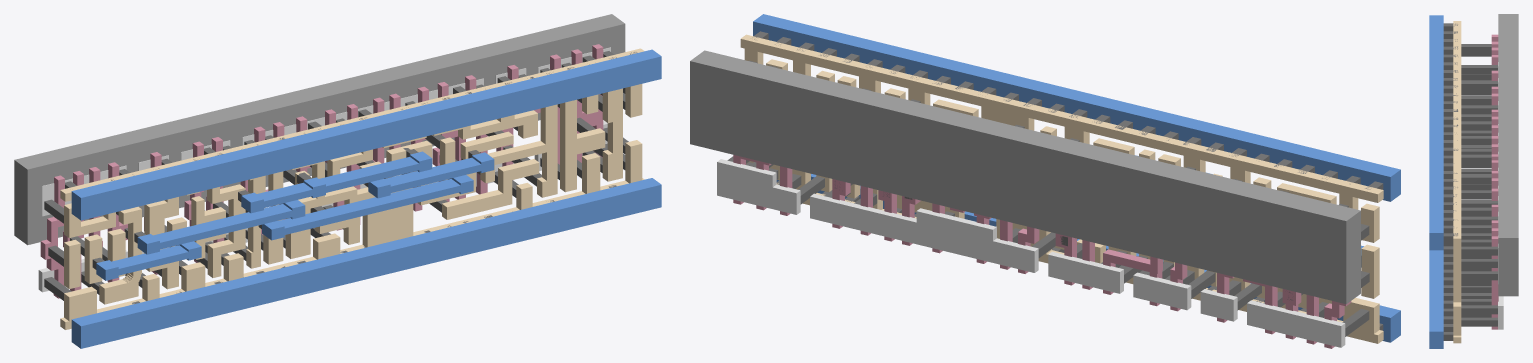
File: sky130_fd_sc_hd__sdfstp_2.gds.gltf
3 views of the same model, side by side, from view 1: azimuth 30°, elevation 25°; view 2: azimuth 150°, elevation 25°; view 3: azimuth 270°, elevation 25° (orthographic). The views are drawn at different scales.
Parts seen in each view (by area): view 1: sky130_fd_sc_hd__sdfstp_2_met1, sky130_fd_sc_hd__sdfstp_2_li1, sky130_fd_sc_hd__sdfstp_2_nwell, sky130_fd_sc_hd__sdfstp_2_poly, sky130_fd_sc_hd__sdfstp_2_licon, sky130_fd_sc_hd__sdfstp_2_diff, sky130_fd_sc_hd__sdfstp_2_mcon; view 2: sky130_fd_sc_hd__sdfstp_2_nwell, sky130_fd_sc_hd__sdfstp_2_li1, sky130_fd_sc_hd__sdfstp_2_diff, sky130_fd_sc_hd__sdfstp_2_met1, sky130_fd_sc_hd__sdfstp_2_poly, sky130_fd_sc_hd__sdfstp_2_licon, sky130_fd_sc_hd__sdfstp_2_mcon; view 3: sky130_fd_sc_hd__sdfstp_2_licon, sky130_fd_sc_hd__sdfstp_2_nwell, sky130_fd_sc_hd__sdfstp_2_met1, sky130_fd_sc_hd__sdfstp_2_mcon, sky130_fd_sc_hd__sdfstp_2_li1, sky130_fd_sc_hd__sdfstp_2_poly, sky130_fd_sc_hd__sdfstp_2_diff.
Part boxes in pixels (<box>): sky130_fd_sc_hd__sdfstp_2_met1: <box>71,49,661,348</box>; sky130_fd_sc_hd__sdfstp_2_li1: <box>60,48,644,329</box>; sky130_fd_sc_hd__sdfstp_2_nwell: <box>14,14,625,245</box>; sky130_fd_sc_hd__sdfstp_2_poly: <box>40,44,603,298</box>; sky130_fd_sc_hd__sdfstp_2_licon: <box>44,51,628,300</box>; sky130_fd_sc_hd__sdfstp_2_diff: <box>38,47,610,292</box>; sky130_fd_sc_hd__sdfstp_2_mcon: <box>92,52,637,304</box>; sky130_fd_sc_hd__sdfstp_2_nwell: <box>690,50,1360,304</box>; sky130_fd_sc_hd__sdfstp_2_li1: <box>740,34,1383,343</box>; sky130_fd_sc_hd__sdfstp_2_diff: <box>717,159,1345,347</box>; sky130_fd_sc_hd__sdfstp_2_met1: <box>753,14,1400,342</box>; sky130_fd_sc_hd__sdfstp_2_poly: <box>733,155,1351,348</box>; sky130_fd_sc_hd__sdfstp_2_licon: <box>727,60,1369,336</box>; sky130_fd_sc_hd__sdfstp_2_mcon: <box>752,31,1383,330</box>; sky130_fd_sc_hd__sdfstp_2_licon: <box>1461,44,1497,326</box>; sky130_fd_sc_hd__sdfstp_2_nwell: <box>1498,14,1518,296</box>; sky130_fd_sc_hd__sdfstp_2_met1: <box>1429,15,1443,348</box>; sky130_fd_sc_hd__sdfstp_2_mcon: <box>1443,23,1458,340</box>; sky130_fd_sc_hd__sdfstp_2_li1: <box>1453,21,1461,343</box>; sky130_fd_sc_hd__sdfstp_2_poly: <box>1491,34,1498,329</box>; sky130_fd_sc_hd__sdfstp_2_diff: <box>1498,62,1503,329</box>.
Bounding box in the file's own units: 13.26 × 3.2 × 2.24.
